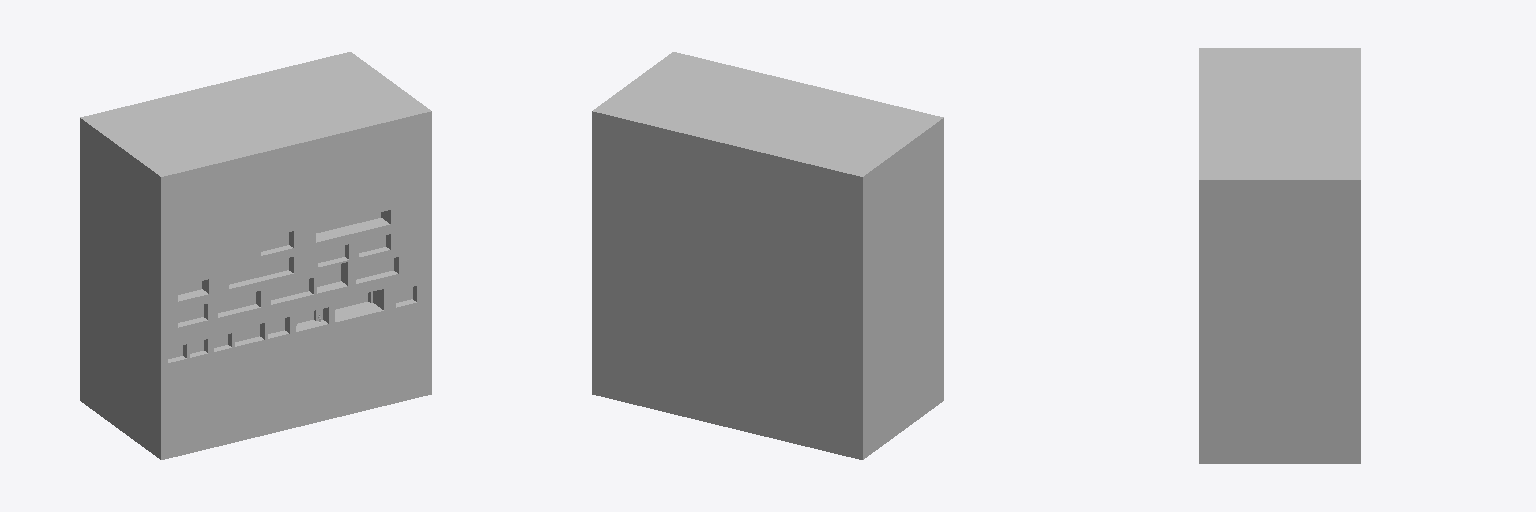
Rendered from SIMPLE INTERIORS.obj.
The picture shows the model from 3 angles: view 1: azimuth 30°, elevation 25°; view 2: azimuth 150°, elevation 25°; view 3: azimuth 270°, elevation 25°; orthographic projection.
Visible parts, largest first — view 1: Cube.002, Cube; view 2: Cube.002; view 3: Cube.002.
Part boxes in pixels (left/top/right/bottom): Cube.002: left=80, top=52, right=431, bottom=459; Cube: left=168, top=210, right=416, bottom=362; Cube.002: left=592, top=52, right=943, bottom=459; Cube.002: left=1199, top=48, right=1360, bottom=463.
Bounding box in the file's own units: 58.62 × 58.62 × 30.55.